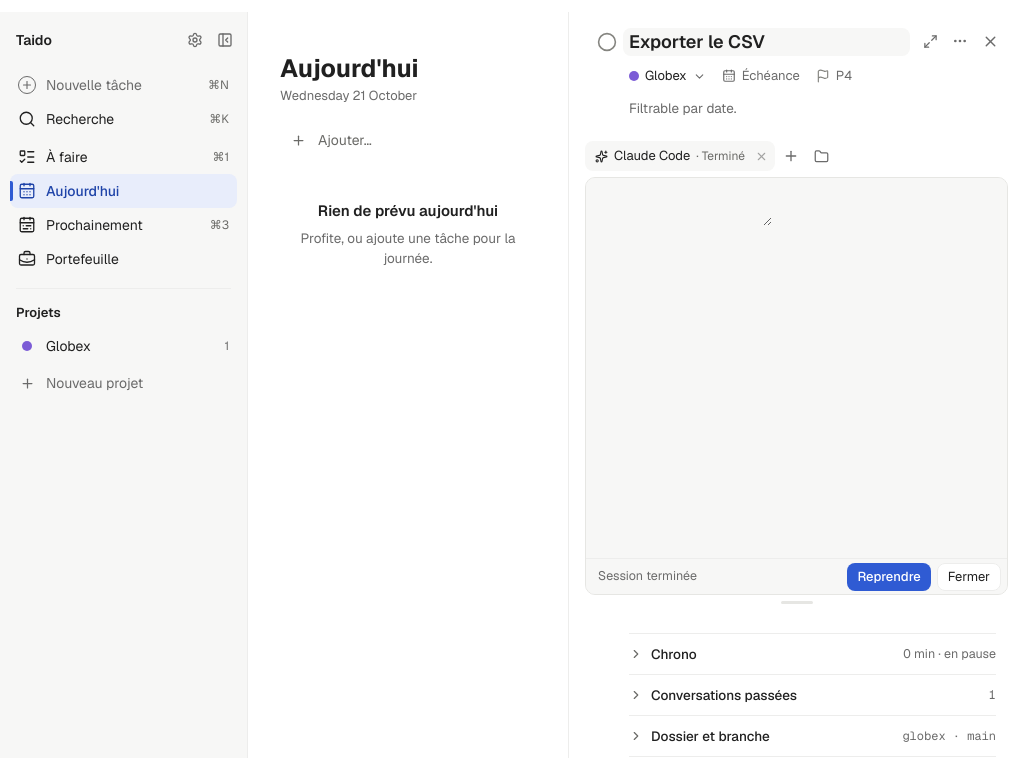
it: « Conversations passées » history › clamps a long reply with « Voir plus »
Expected: the text box named "Titre de la tâche" is shown, [623,28,910,56]
Click the button "Conversations passées 1". click: (724, 695)
box: [629,675,996,715]
(page scrolled)
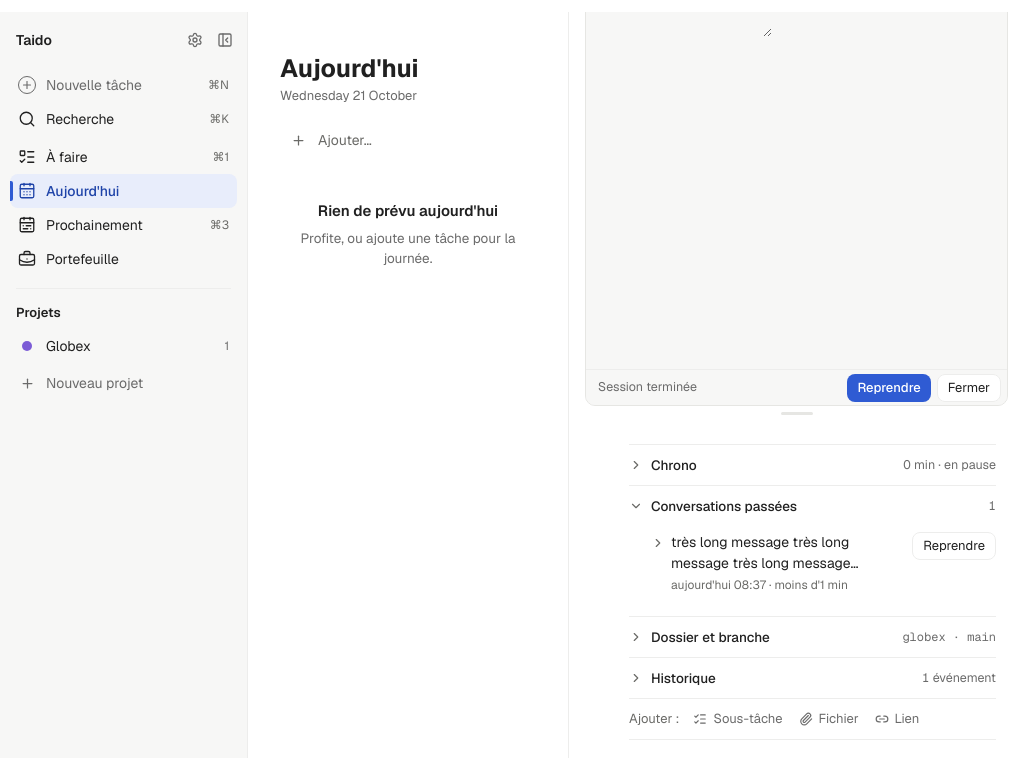
Click the button with aria-label "Voir les échanges". click: (761, 563)
box: [651,532,870,594]
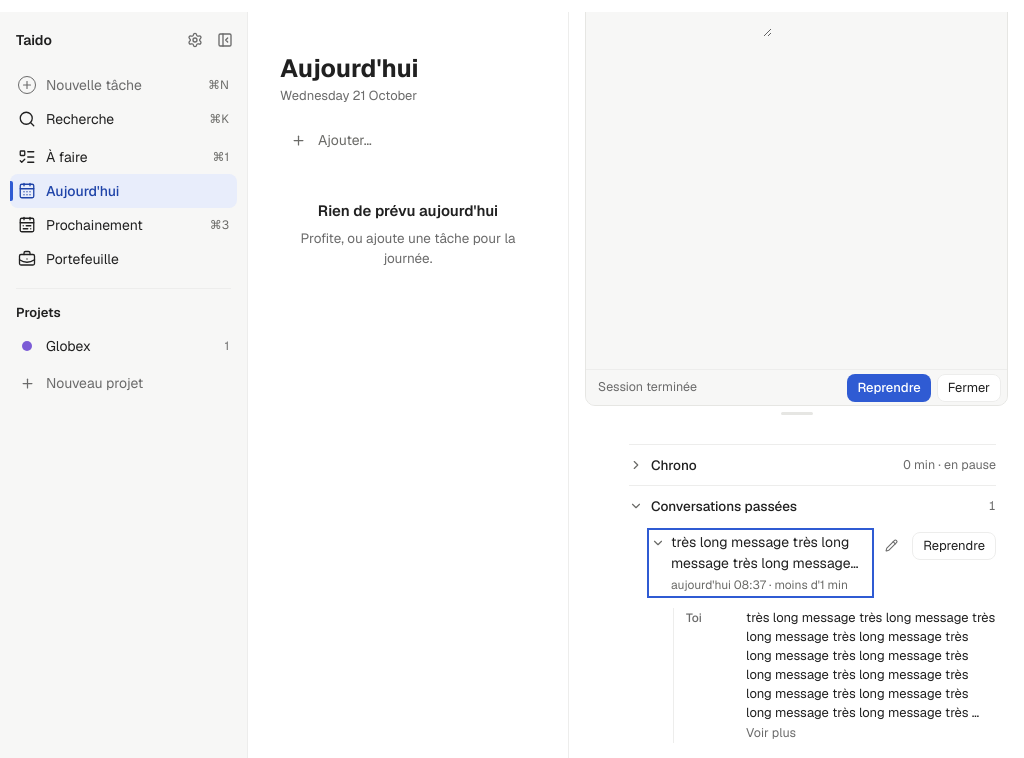
Click the button "Voir plus". click: (771, 733)
box: [746,724,796,743]
(page scrolled)
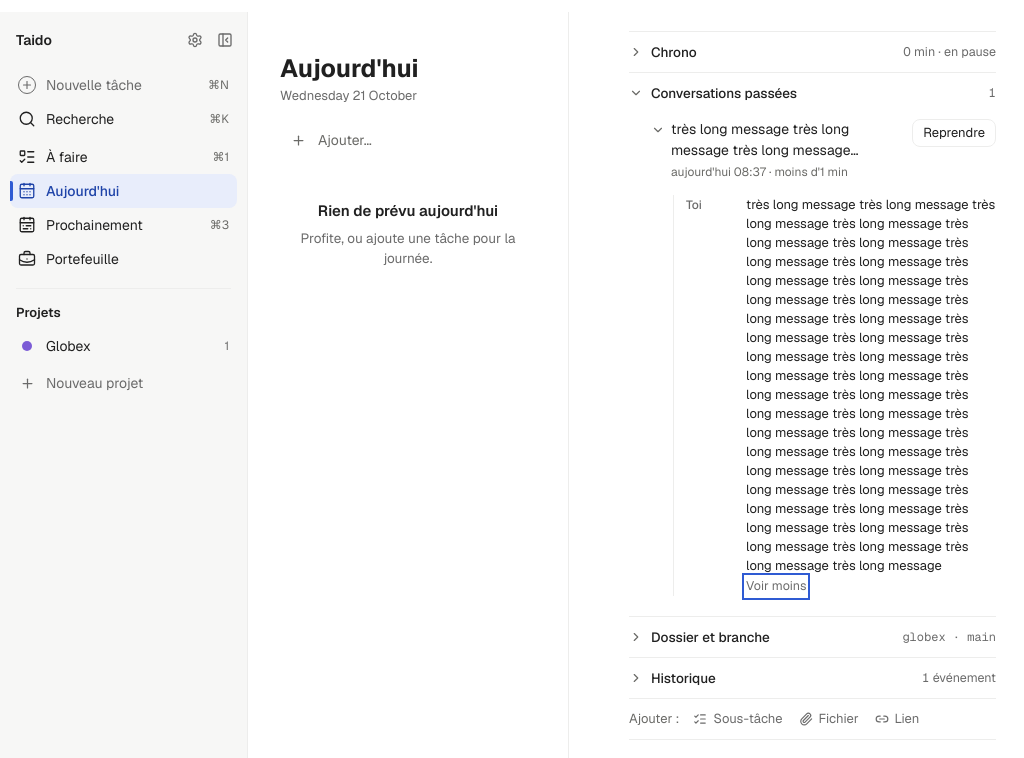
Expected: the button "Voir moins" is shown, [746,577,806,596]
